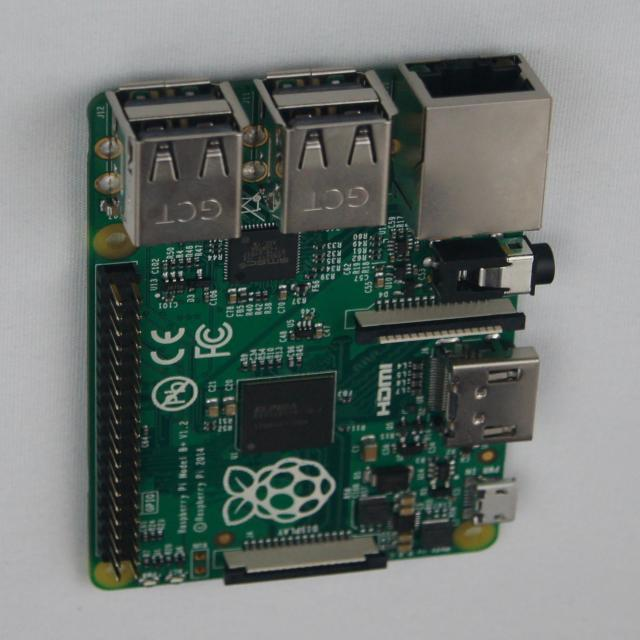Raspberry Pi 1 B-: (89, 56, 555, 590)
